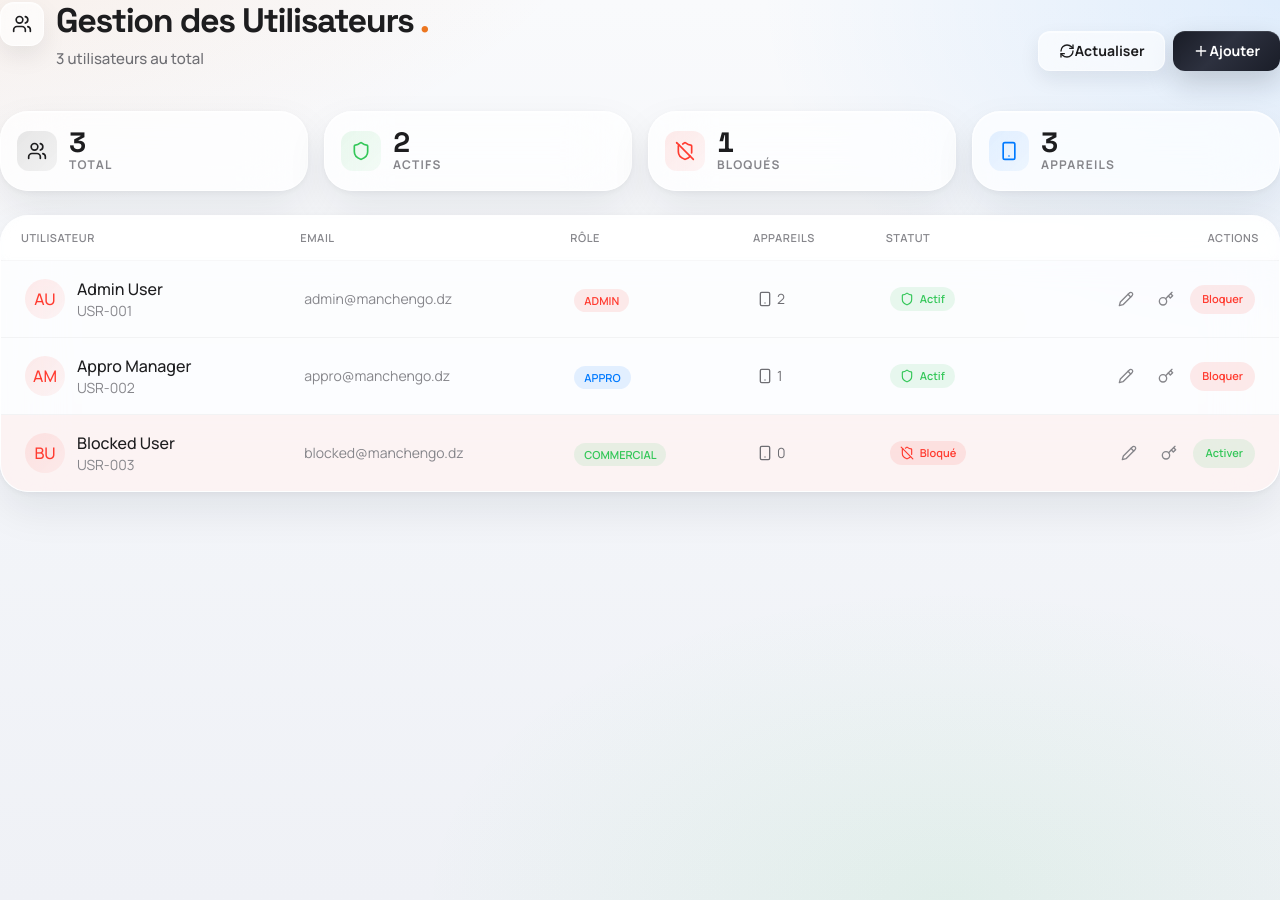
it: UsersManagementPage › opens reset password modal
The width and height of the screenshot is (1280, 900).
Expected: the text "admin@manchengo.dz" is shown, [280,261,550,338]
Click the button titled "Réinitialiser mot de passe" in the row of "USR-001" at (1166, 299), box [1150,283,1182,315]
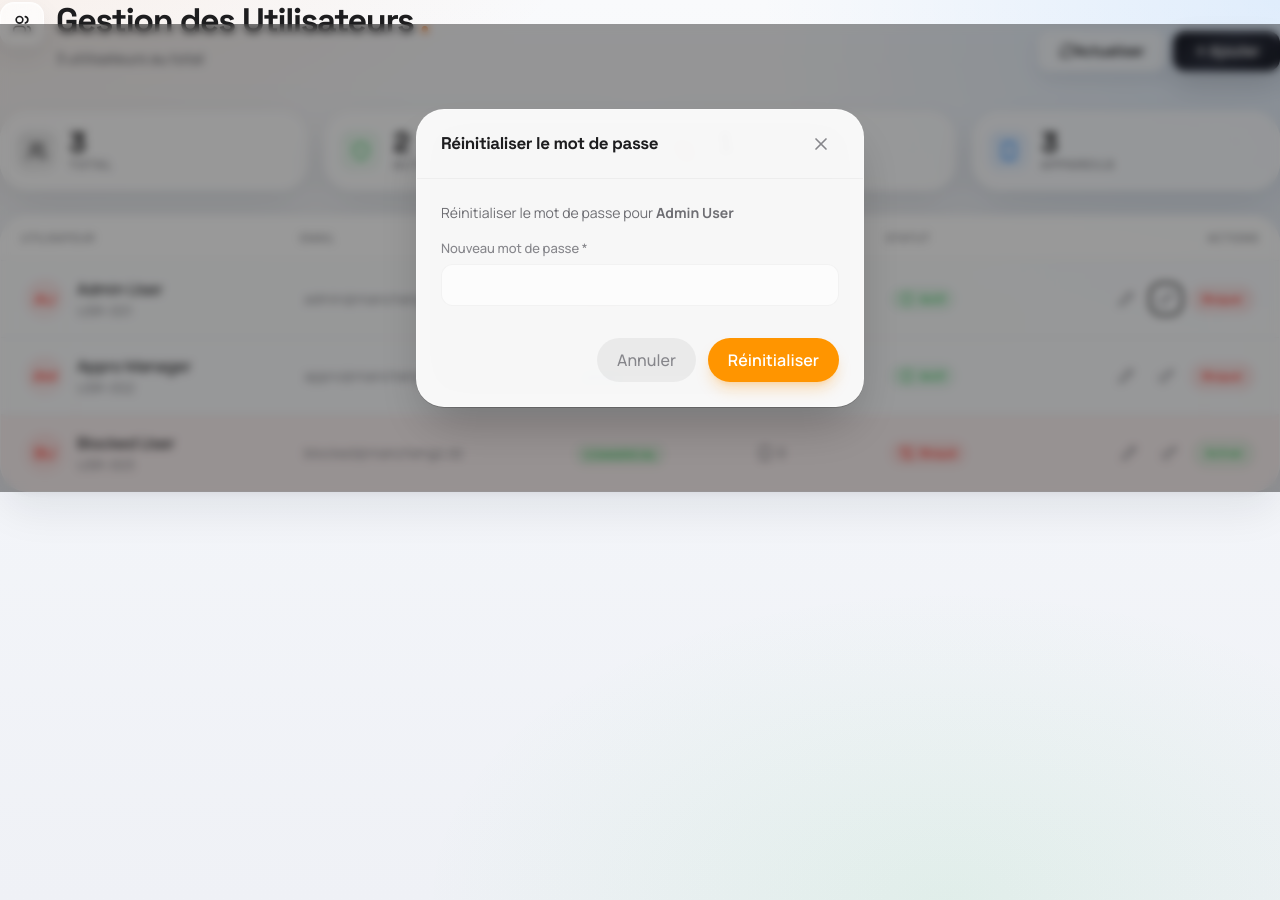
Expected: the heading "Réinitialiser le mot de passe" is shown, [441,131,658,157]
